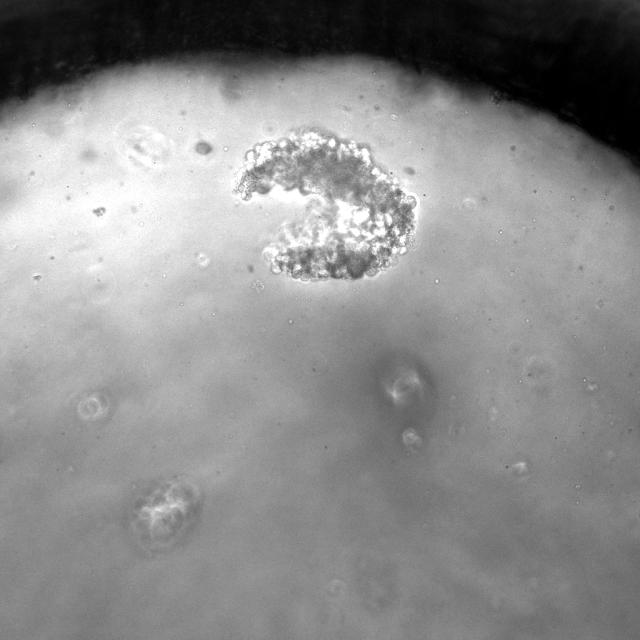organoid: (235, 130, 415, 279), (129, 476, 202, 553)
